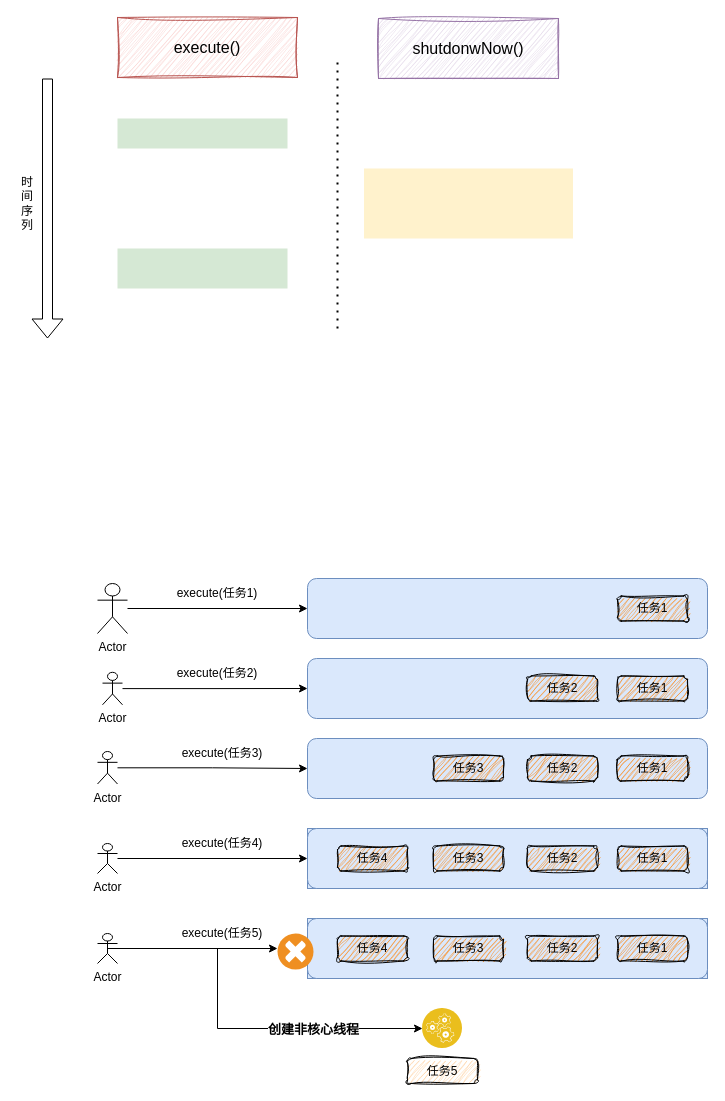
The diagram is 725 pixels wide and 1101 high, and some of its shapes have lost their labels. The box of each missing label's shape, as (x1, y1, x2, y2) in pixels:
advanceRunState(STOP); interruptWorkers(); tasks = drainQueue();: (364, 168, 572, 238)
语句(1) c = ctl.get(): (117, 118, 287, 148)
语句(2) workQueue.offer(command): (117, 248, 287, 288)
